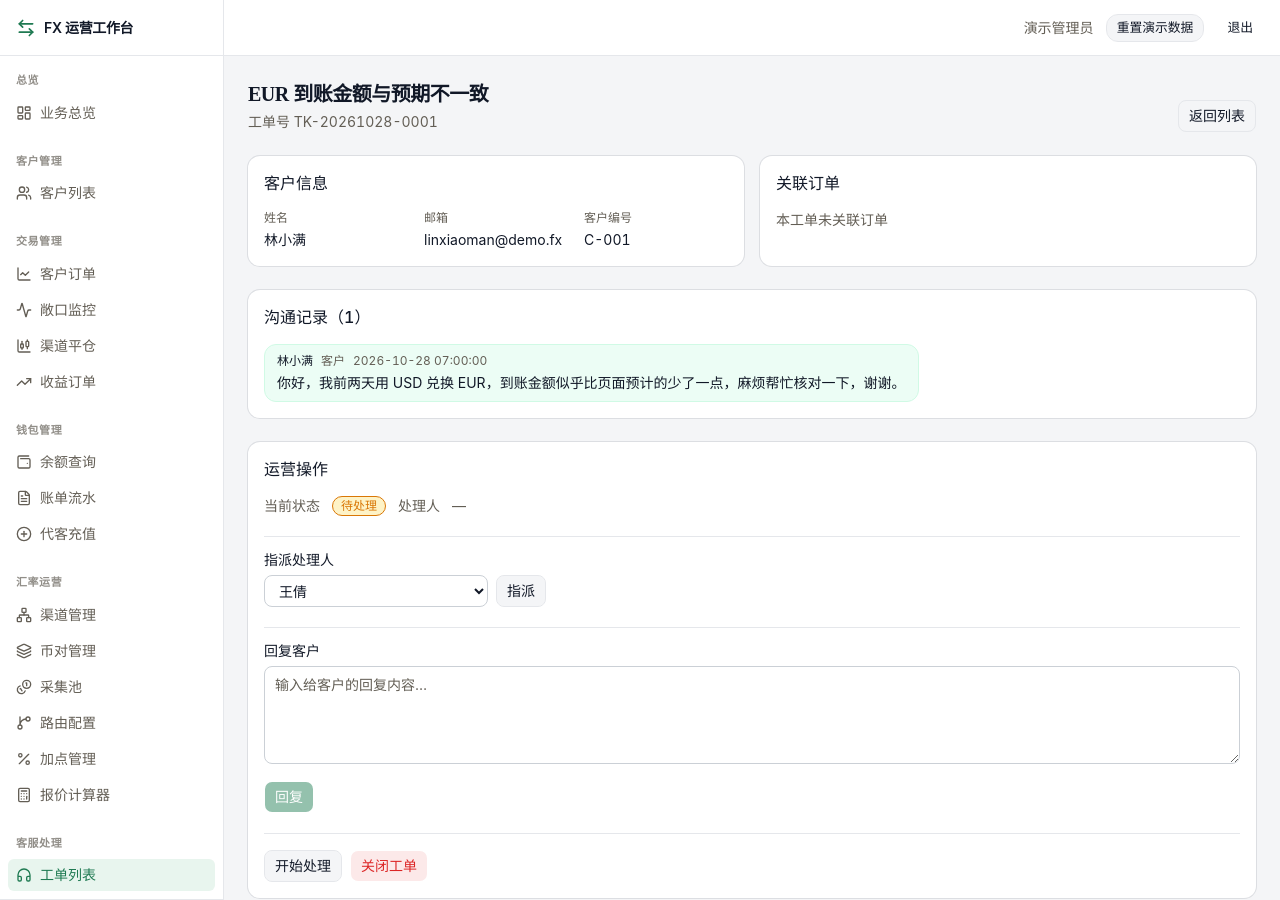
Test: 运营工单详情：指派与回复 › 待处理工单详情展示客户资料与时间线；指派王倩后 store.assigneeId=OPS-002
Select "王倩" in the dropdown labelled "指派处理人": (376, 591) [264,575,488,607]
Click the button "指派": (521, 591) [496,575,546,607]
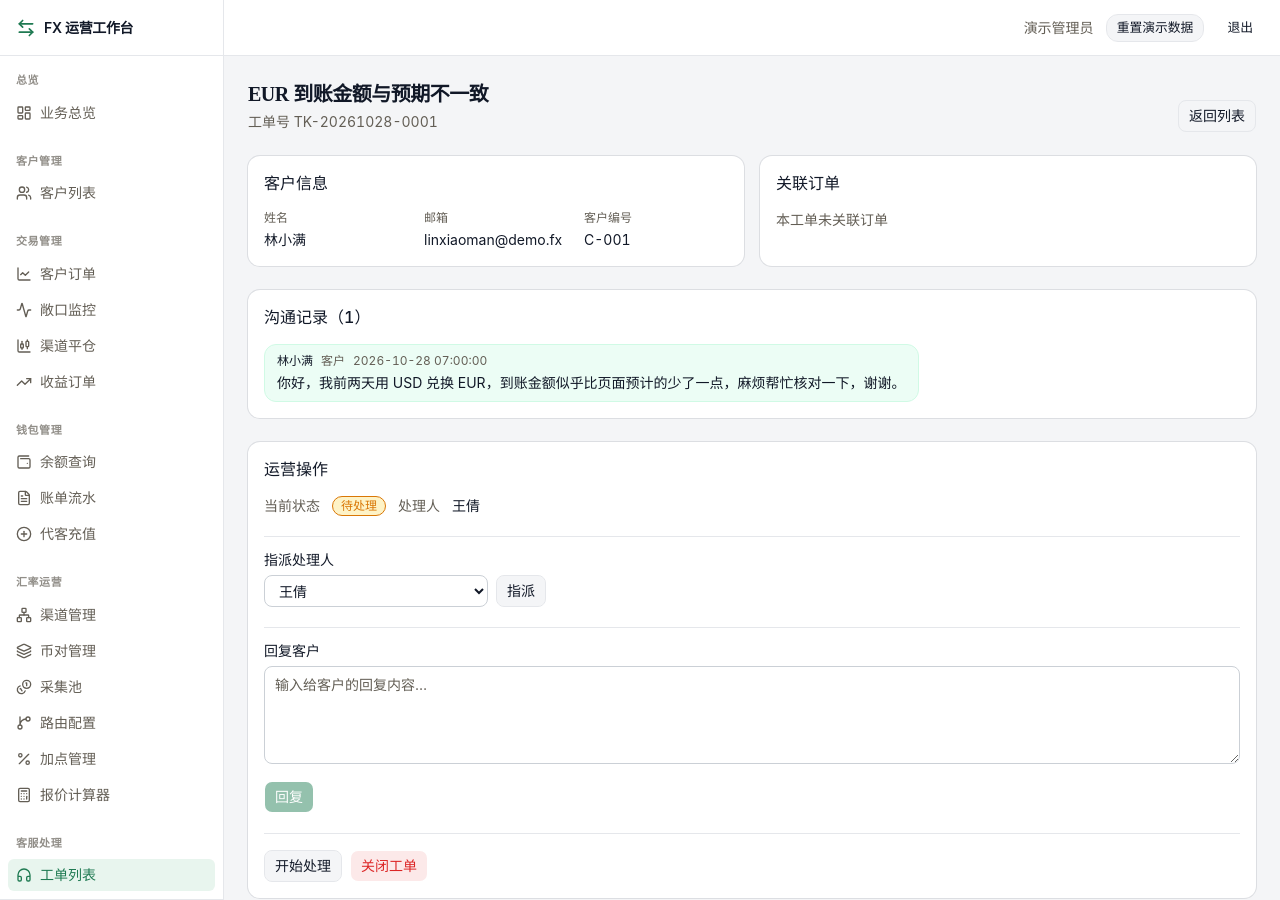
Check: the text "王倩" is shown, box [452,496,480,516]
